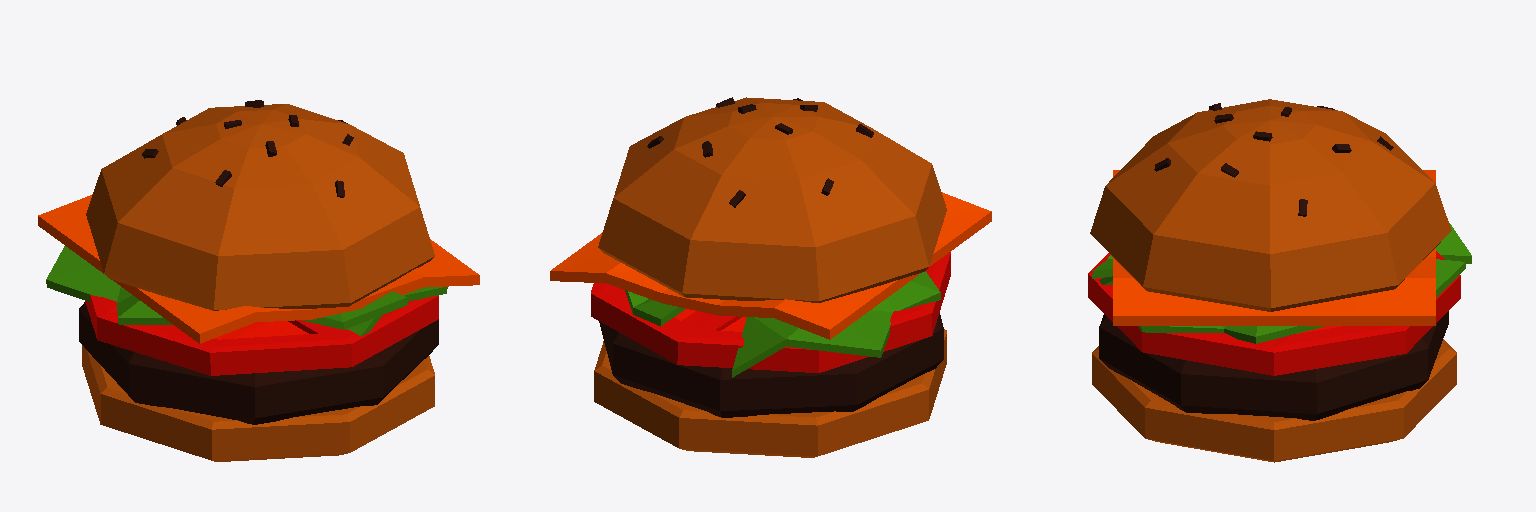
The model's file is Hamburger_01.obj.
3 renders of one model, left to right at view 1: azimuth 30°, elevation 25°; view 2: azimuth 150°, elevation 25°; view 3: azimuth 270°, elevation 25°, orthographic.
Parts seen in each view (by area): view 1: Circle.003_Circle.001; view 2: Circle.003_Circle.001; view 3: Circle.003_Circle.001.
Boxes of the visible parts, x1,y1,x2,y2 form: Circle.003_Circle.001: [38, 100, 479, 461]; Circle.003_Circle.001: [550, 97, 991, 457]; Circle.003_Circle.001: [1088, 99, 1471, 462].
Bounding box in the file's own units: 12.36 × 10.03 × 12.73.